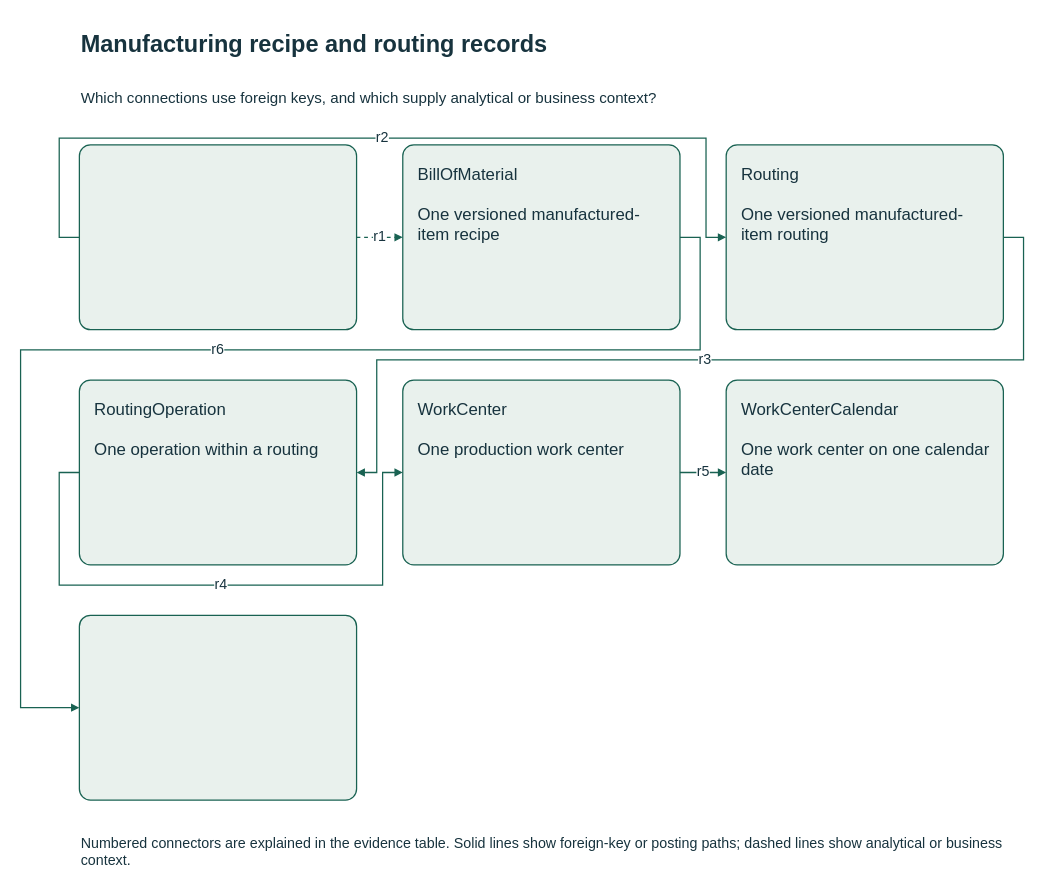
This 1046x891 diagram has some shape labels left out. Each missing label, with the centre of its shape:
"BillOfMaterialLine One component within a BOM" goes at point (217, 707).
"Item One item in the product or service master" goes at point (217, 237).
